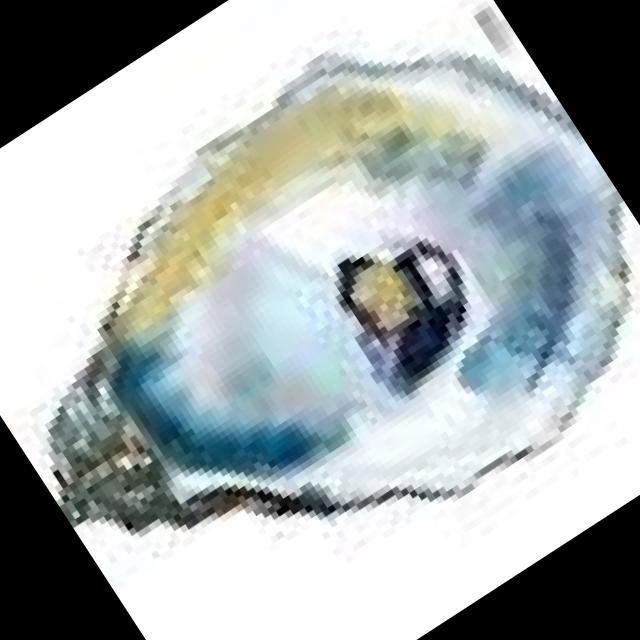Oyster-Open: (49, 55, 629, 532)
